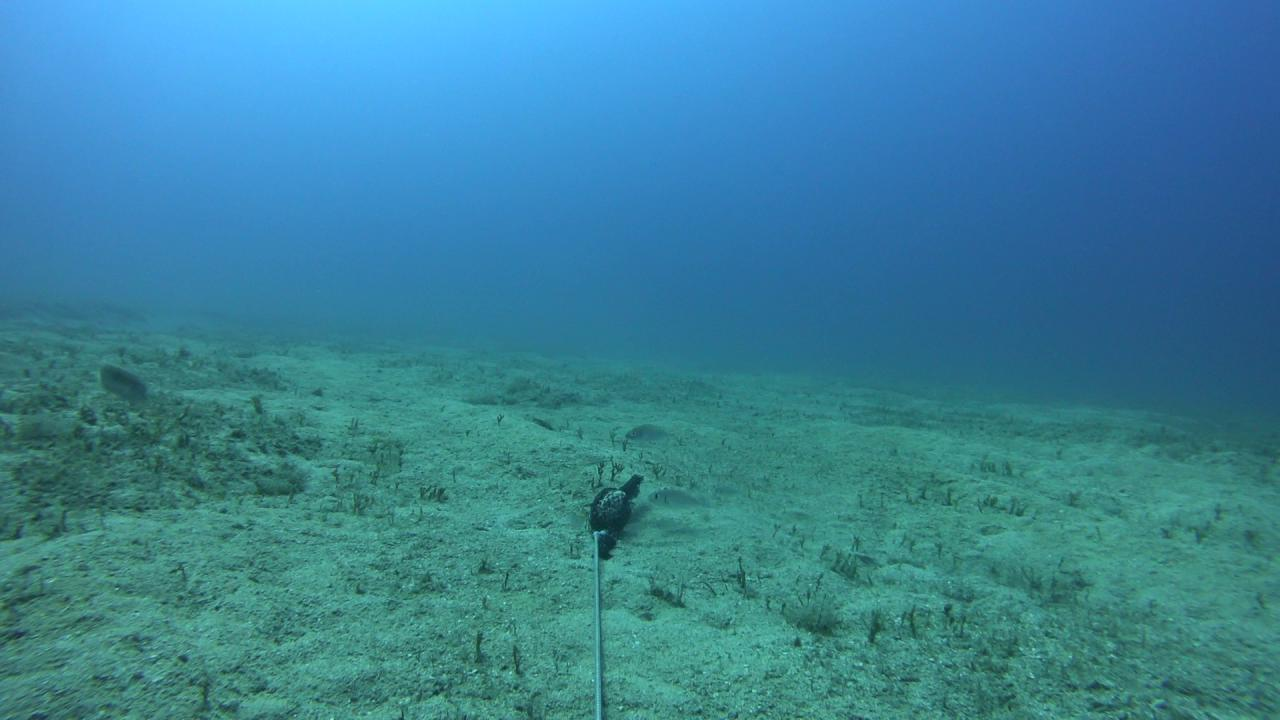pagellus: (645, 487, 711, 511), (624, 422, 679, 442)
raor: (101, 363, 150, 409)
